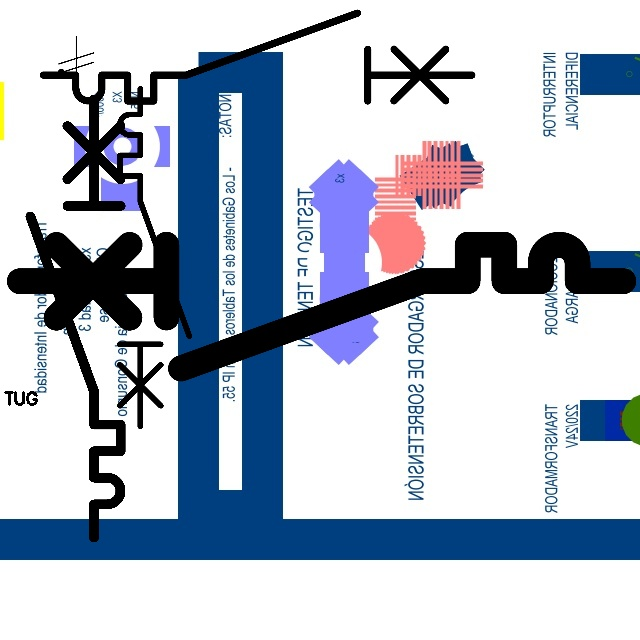interruptor_termomagnetico: (4, 229, 639, 384), (19, 88, 132, 549), (32, 2, 483, 112), (111, 80, 198, 435)
